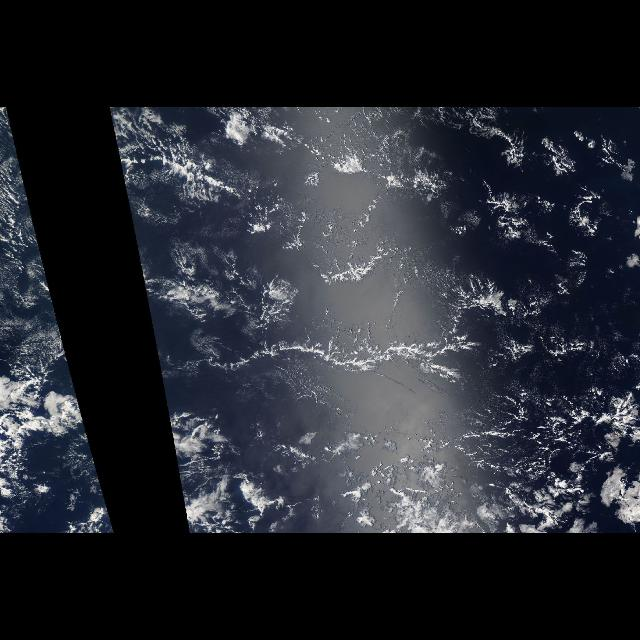Fish: (189, 284, 513, 394)
Gravel: (193, 114, 622, 486)
